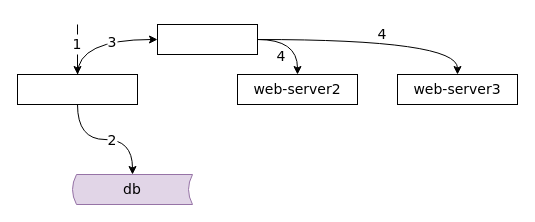
The diagram is 535 pixels wide and 222 high, and some of its shapes have lost their labels. Each missing label, with the centre of its shape:
"MQ" goes at (x=207, y=39).
"web-server1" goes at (x=77, y=89).
